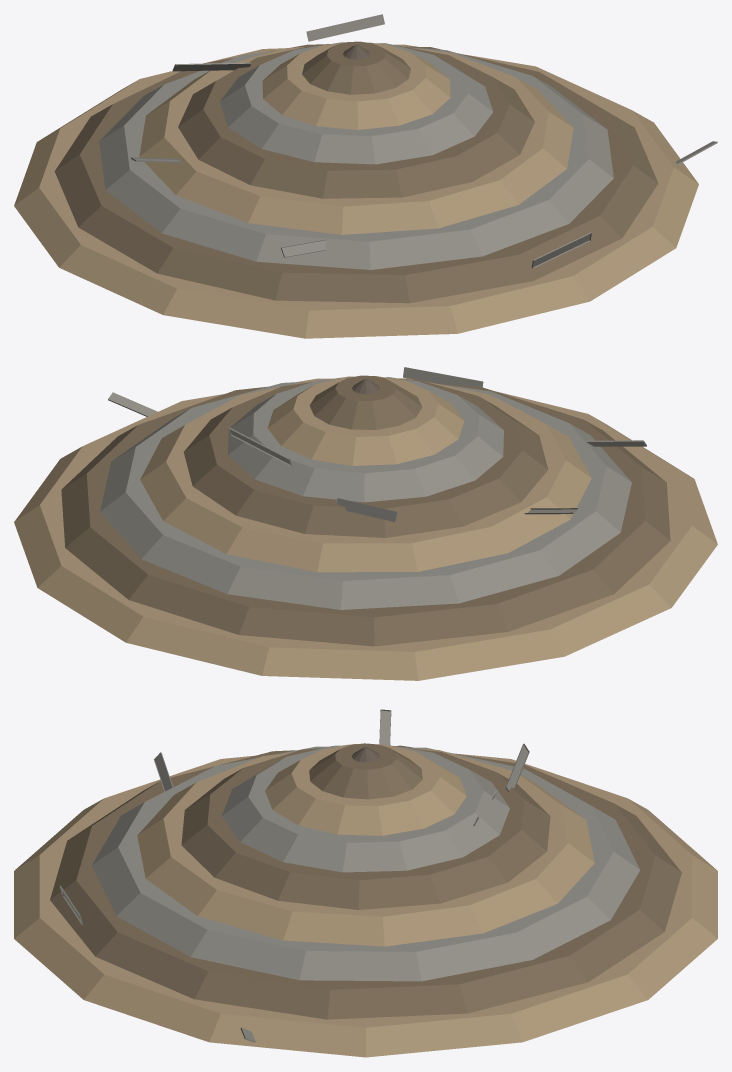
Rendered from rajo_pelambres.obj.
3 views of the same model, one above another, from view 1: azimuth 30°, elevation 25°; view 2: azimuth 150°, elevation 25°; view 3: azimuth 270°, elevation 25° (orthographic). The views are drawn at different scales.
Parts seen in each view (by area): view 1: rajo_pelambres; view 2: rajo_pelambres; view 3: rajo_pelambres.
Boxes of the visible parts, bbox=[...] form: rajo_pelambres: bbox=[14, 14, 717, 338]; rajo_pelambres: bbox=[14, 367, 717, 680]; rajo_pelambres: bbox=[14, 709, 717, 1057].
Bounding box in the file's own units: 606 × 144 × 585.
